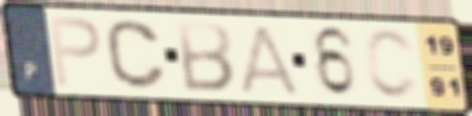6: (311, 25, 358, 100)
A: (238, 22, 303, 97)
B: (175, 18, 237, 95)
C: (102, 18, 170, 92), (362, 26, 422, 103)
P: (46, 14, 104, 89)
